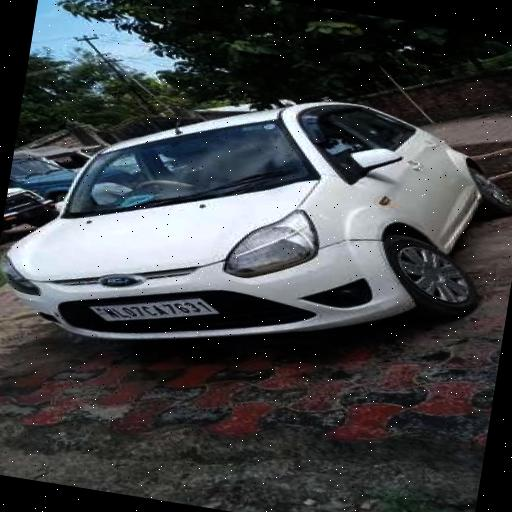license_plate`: (82, 279, 220, 338)
